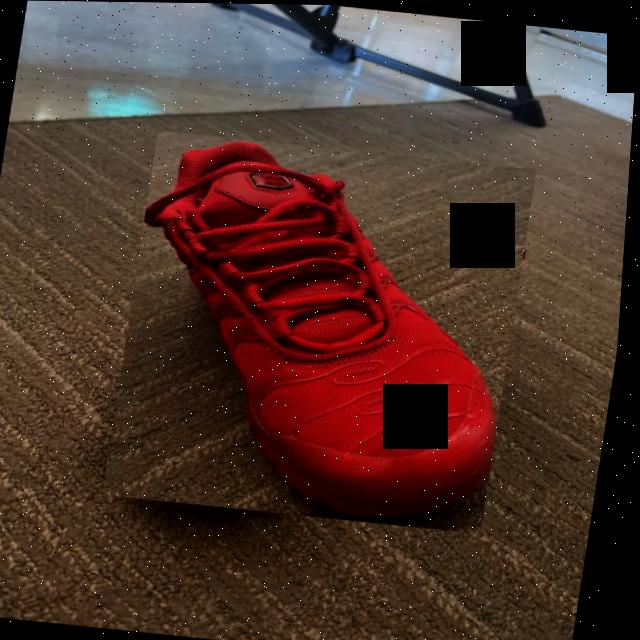shoe: (107, 130, 540, 533)
